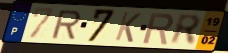7: (86, 8, 117, 44), (28, 7, 55, 40)
K: (113, 11, 143, 44)
R: (141, 12, 175, 46), (169, 13, 203, 47), (50, 9, 83, 40)
